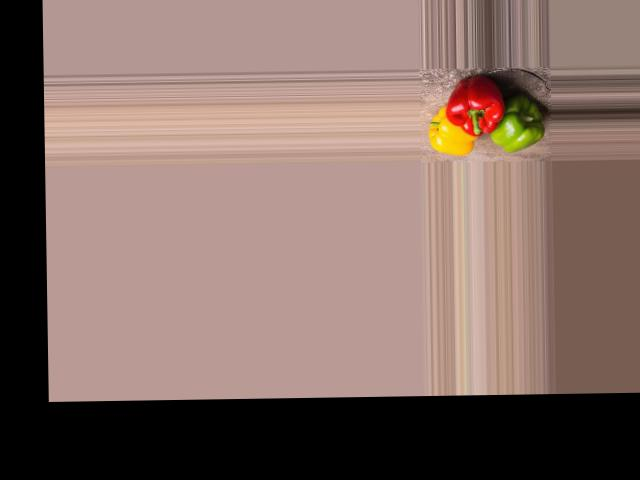bell_pepper: (428, 105, 475, 158)
